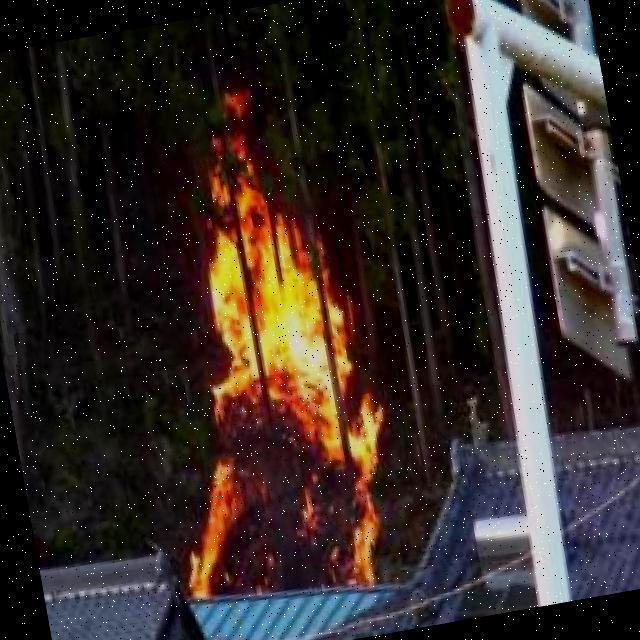Fire: (126, 107, 405, 602)
